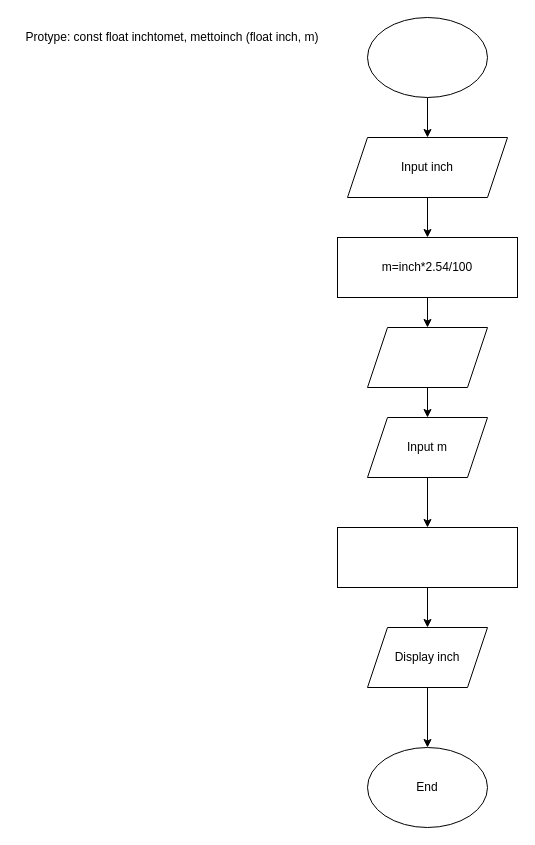
The diagram is 535 pixels wide and 845 high, and some of its shapes have lost their labels. The shapes that lost their labels are listed below. From the top down, each one's box as (x1, y1, x2, y2) in pixels, then its label:
(366, 16, 488, 98): Start
(366, 326, 488, 388): Display m
(336, 526, 518, 588): inch=m/2.54
